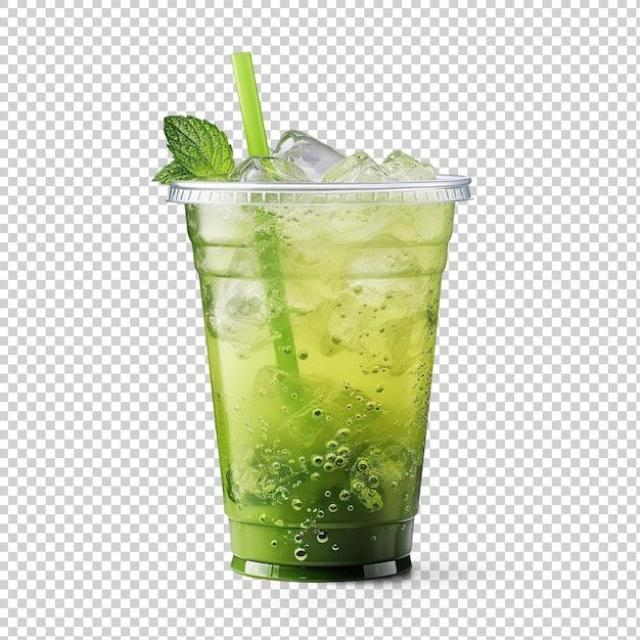plastic cup: (152, 113, 473, 581)
